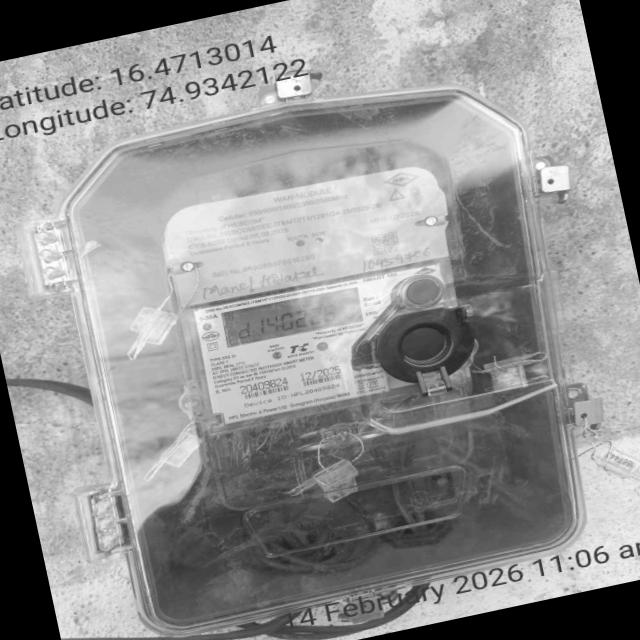meter: (156, 153, 489, 438)
